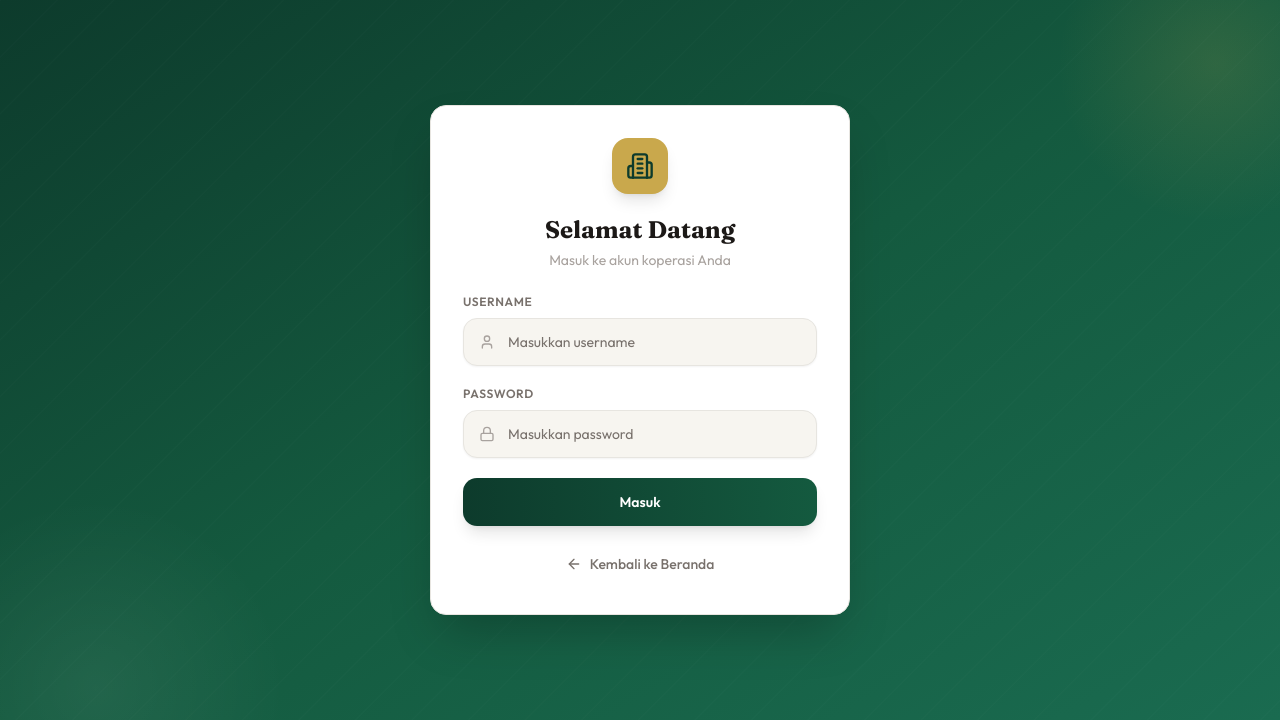
Test: Login Page › Validasi Form › menampilkan error jika username kosong saat submit
This screenshot has width=1280, height=720.
Click the button "Masuk". click: (640, 502)
box: x1=463 y1=478 x2=817 y2=526
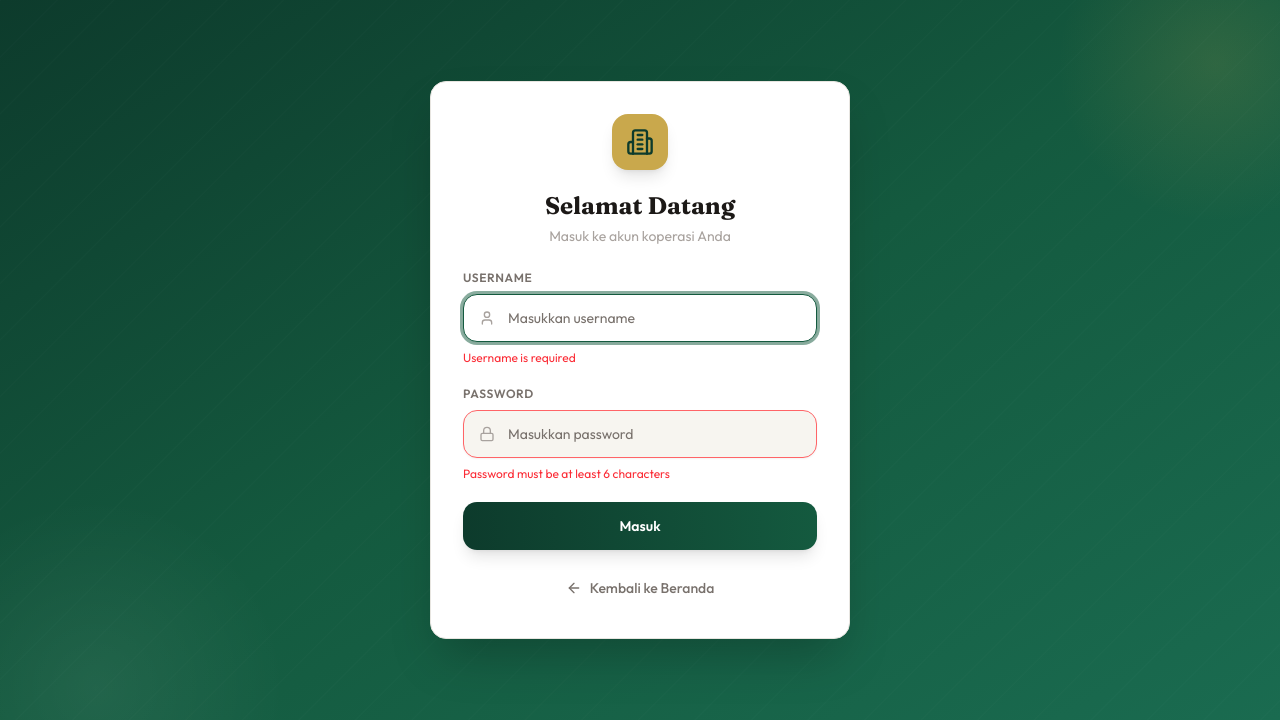
Now the text "Username is required" is shown, box x1=463 y1=350 x2=576 y2=365
